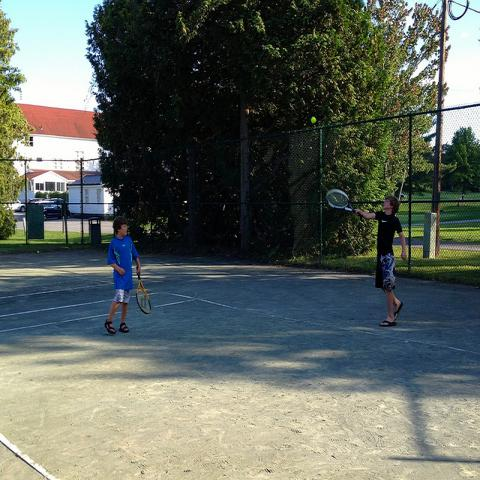car: (43, 204, 69, 220), (6, 199, 26, 212), (27, 199, 44, 206)
